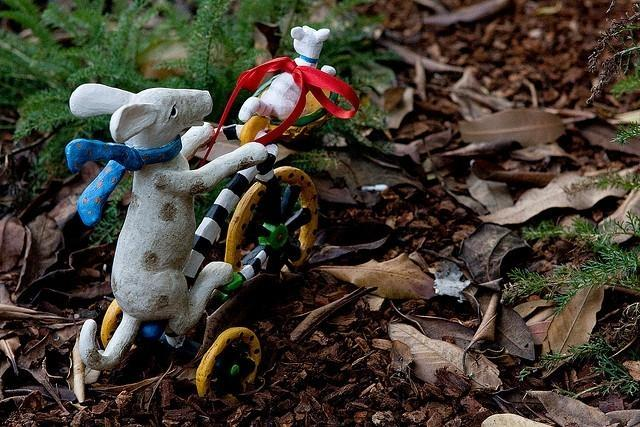bicycle: (146, 149, 320, 400)
